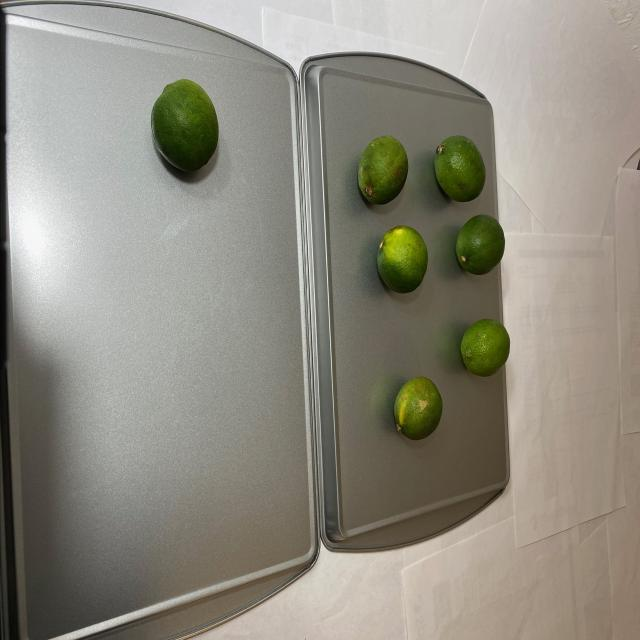lemon: (355, 114, 504, 453), (148, 79, 220, 176)
